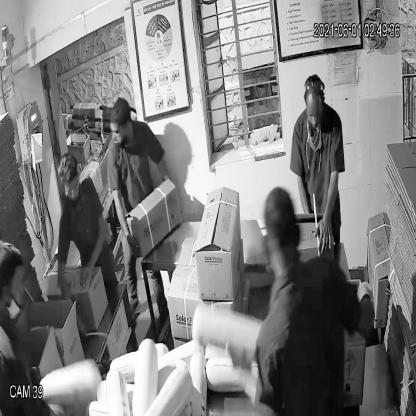goggles: (58, 176, 82, 200)
no_goggles: (304, 103, 326, 121)
